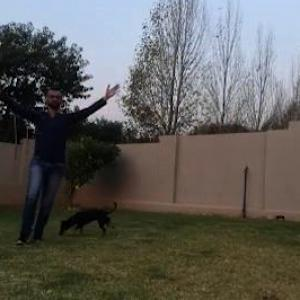takeoff: (0, 76, 129, 257)
